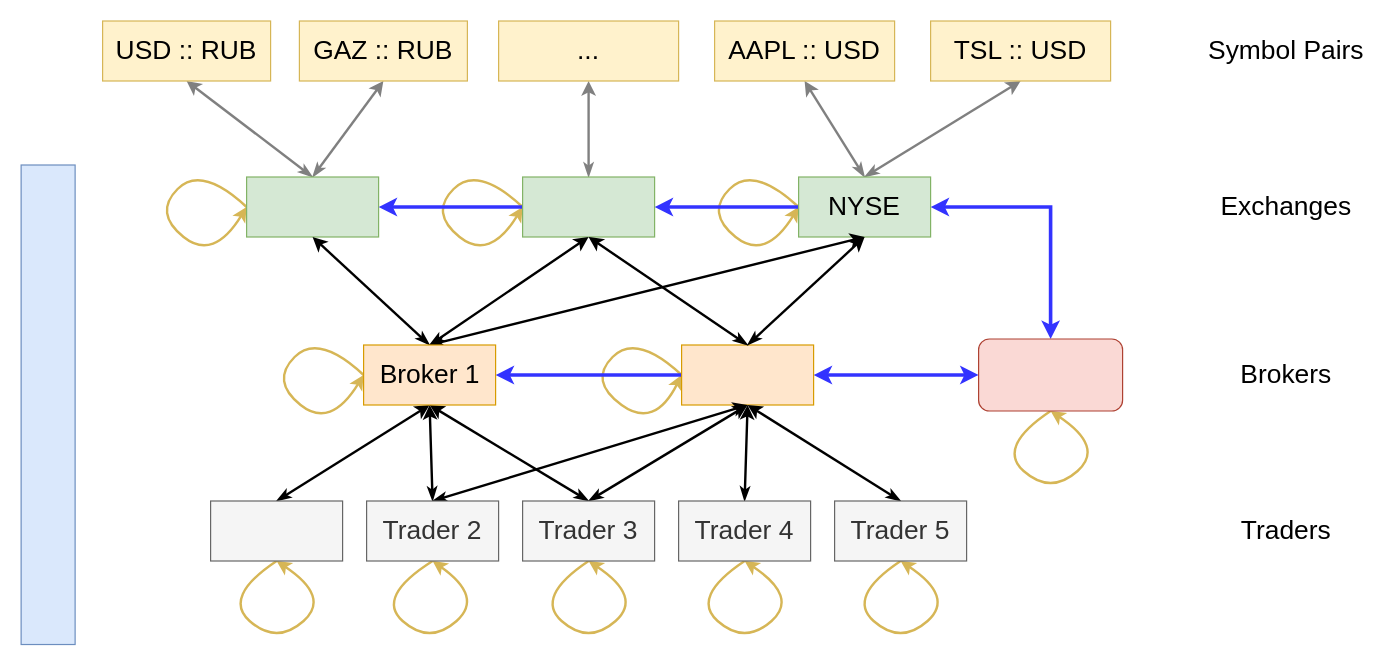
Some shapes in this 1397 by 666 pixel diagram are drawn without their labels. Here are the shapes that lost their labels. From the top down, the box of each, then its label:
(245, 176, 379, 237): MOEX
(521, 176, 655, 237): SPB
(680, 344, 814, 405): Broker 2
(977, 338, 1123, 411): Replay
(20, 164, 75, 645): Kernel
(209, 500, 343, 561): Trader 1
